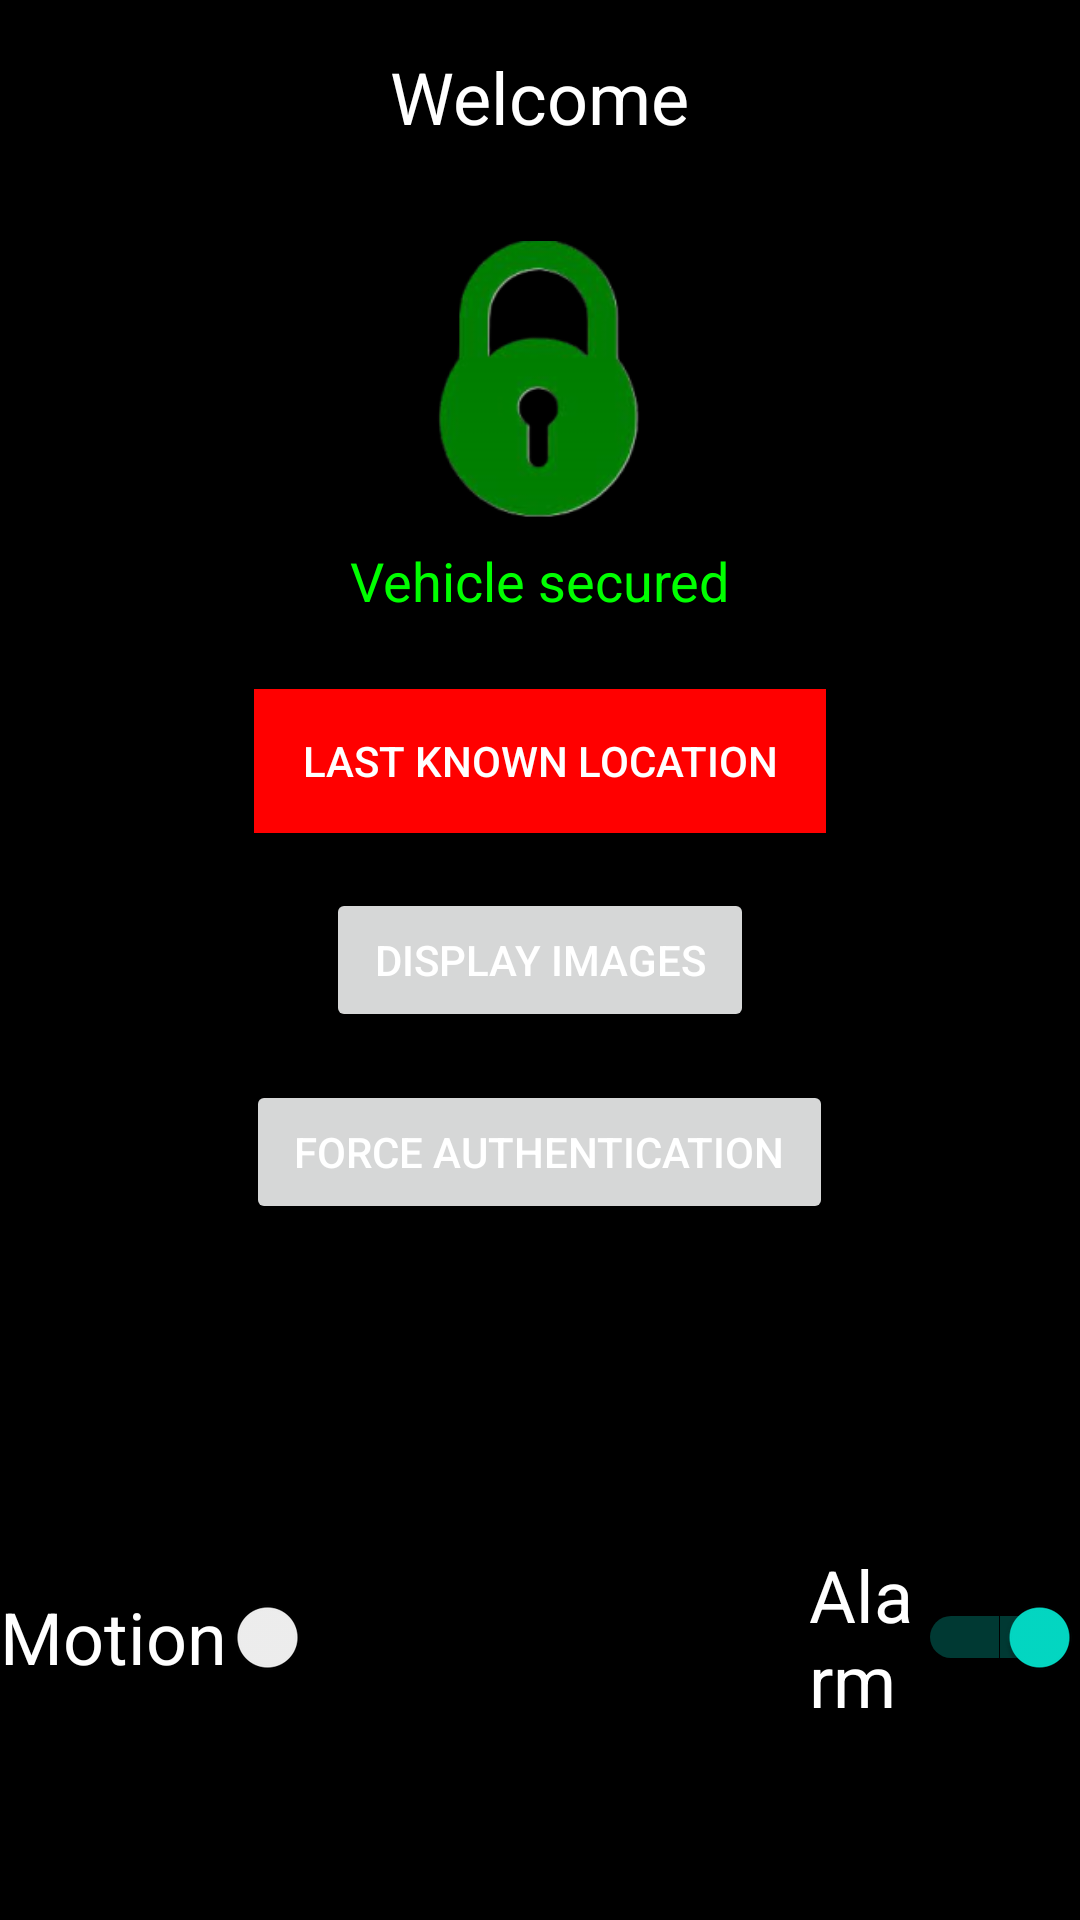

Where icons sit on this 1080px x 1920px app screen, as (x1, y1, x2, y2):
Lock Status: (439, 241, 639, 517)
